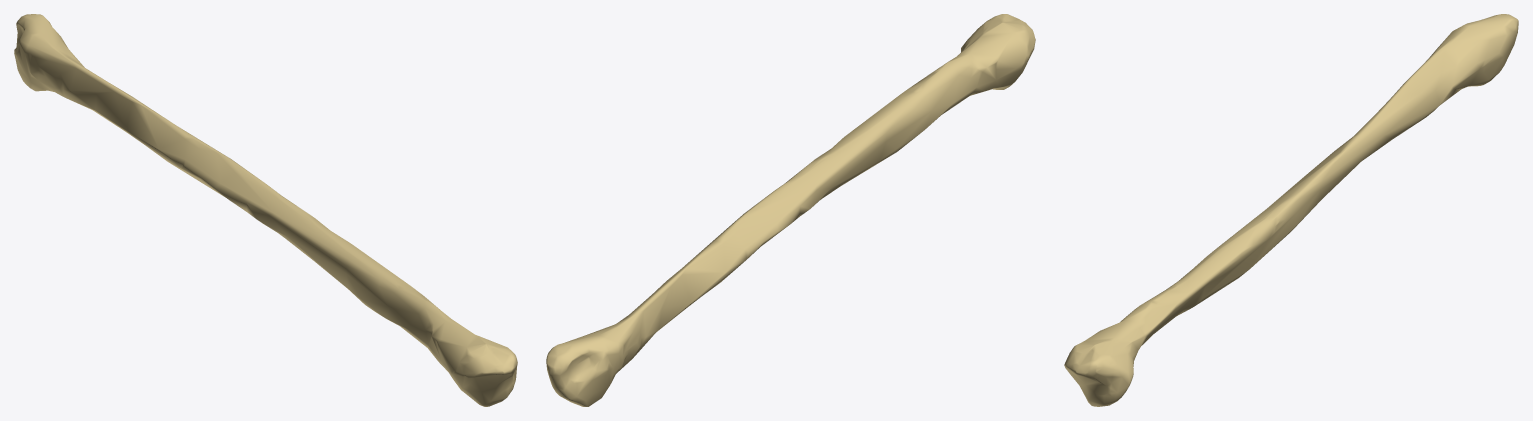
3 views of the same model, side by side, from view 1: azimuth 30°, elevation 25°; view 2: azimuth 150°, elevation 25°; view 3: azimuth 330°, elevation 25° (orthographic). The views are drawn at different scales.
Parts seen in each view (by area): view 1: 左侧腓骨; view 2: 左侧腓骨; view 3: 左侧腓骨.
Boxes of the visible parts, left/top/right/bottom form: 左侧腓骨: left=14, top=14, right=517, bottom=406; 左侧腓骨: left=546, top=14, right=1035, bottom=406; 左侧腓骨: left=1064, top=14, right=1518, bottom=406.
Bounding box in the file's own units: 0.0534 × 0.0485 × 0.5341.
